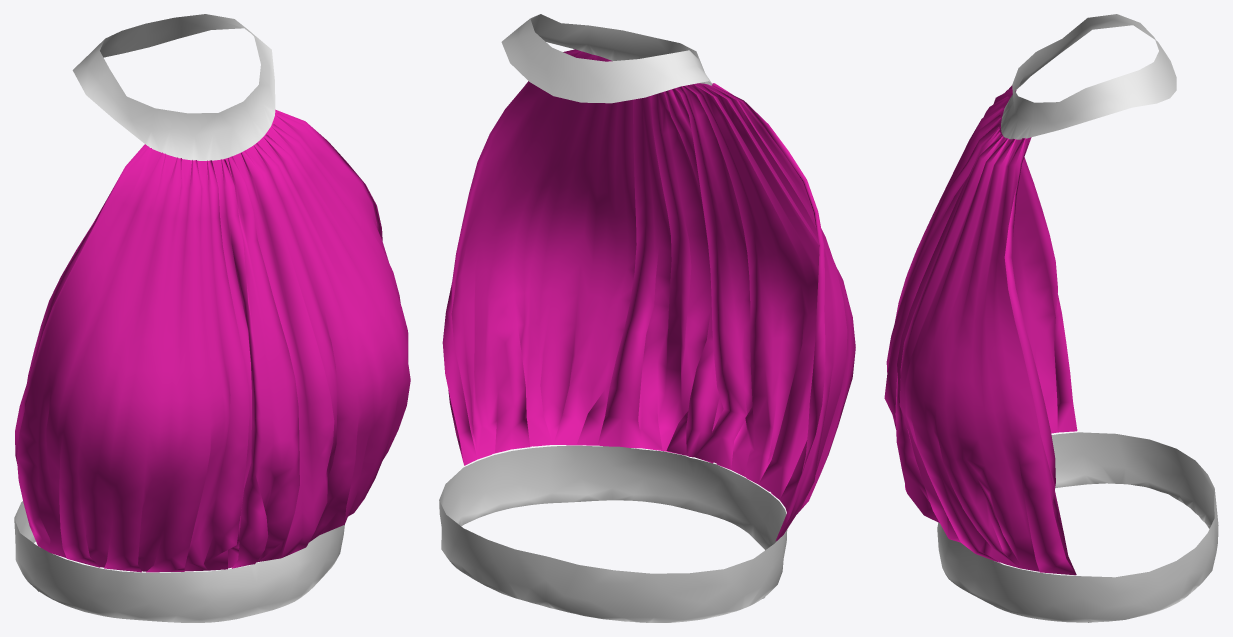
Rendered from top_ballerina (1).fbx.
3 views of the same model, side by side, from view 1: azimuth 30°, elevation 25°; view 2: azimuth 150°, elevation 25°; view 3: azimuth 270°, elevation 25° (orthographic). The views are drawn at different scales.
Parts seen in each view (by area): view 1: Top, Detail; view 2: Top, Detail; view 3: Top, Detail.
Boxes of the visible parts, bbox=[...] form: Top: bbox=[15, 109, 410, 572]; Detail: bbox=[14, 14, 344, 622]; Top: bbox=[442, 49, 855, 541]; Detail: bbox=[439, 14, 787, 622]; Top: bbox=[884, 85, 1077, 575]; Detail: bbox=[937, 14, 1218, 622].
Bounding box in the file's own units: 27.6 × 37.5 × 22.15.
